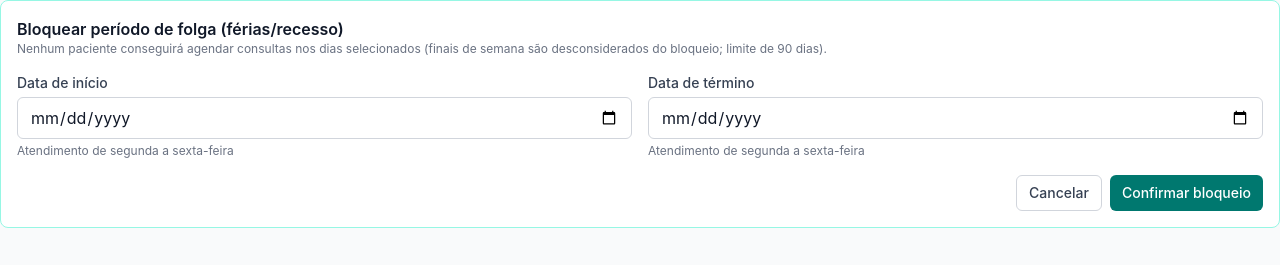
Scenario: FEAT-05: Bloqueio de agenda por período (Front-end) › valida que data final não pode ser anterior à data inicial no formulário
Type "2026-06-15" into the date field labelled "Data de início" at x=324, y=118, box [17,97,632,139]
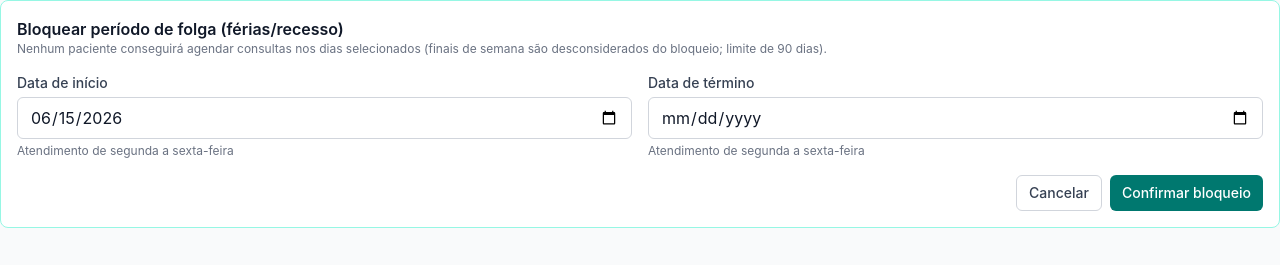
Type "2026-06-10" into the date field labelled "Data de término" at x=956, y=118, box [648,97,1263,139]
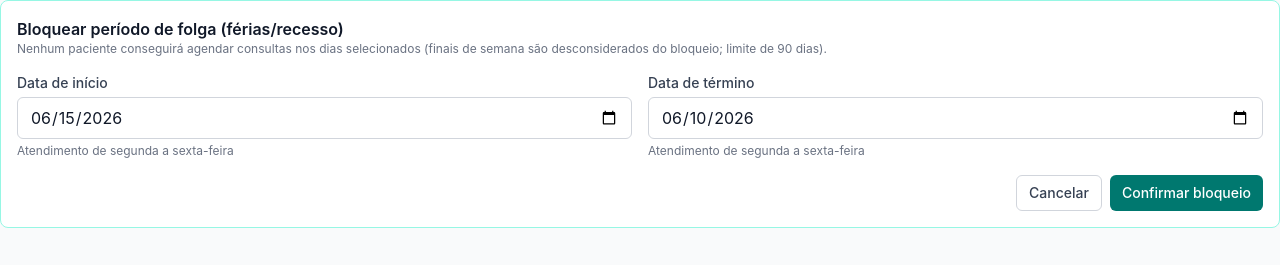
Click the button "Confirmar bloqueio" at x=1186, y=193, box [1110,175,1263,211]
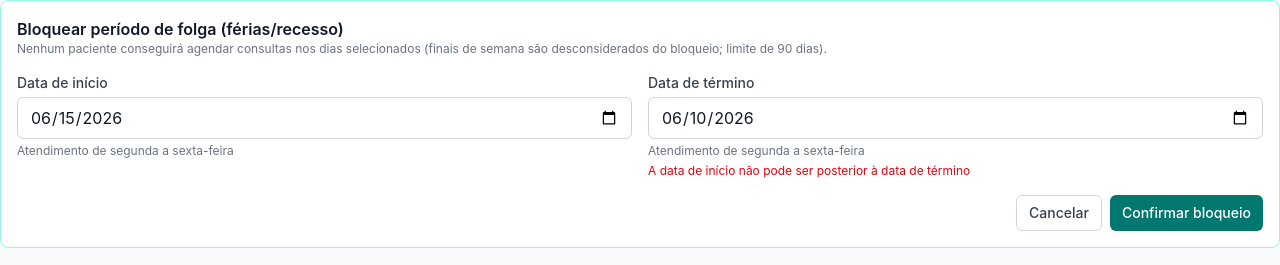
Check: the text "A data de início não pode ser posterior à data de término" is shown, box [648,163,970,178]
